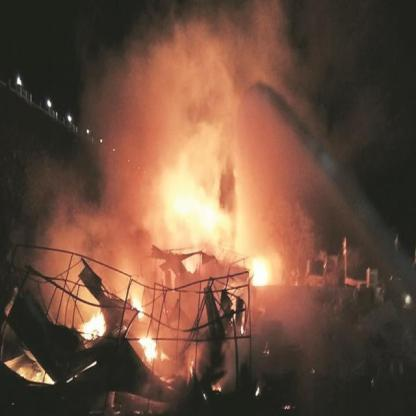Fire: (155, 149, 245, 264), (135, 333, 170, 364), (79, 307, 108, 344), (249, 252, 274, 289), (130, 290, 146, 322), (38, 368, 54, 386)
Smoke: (111, 16, 297, 141)
